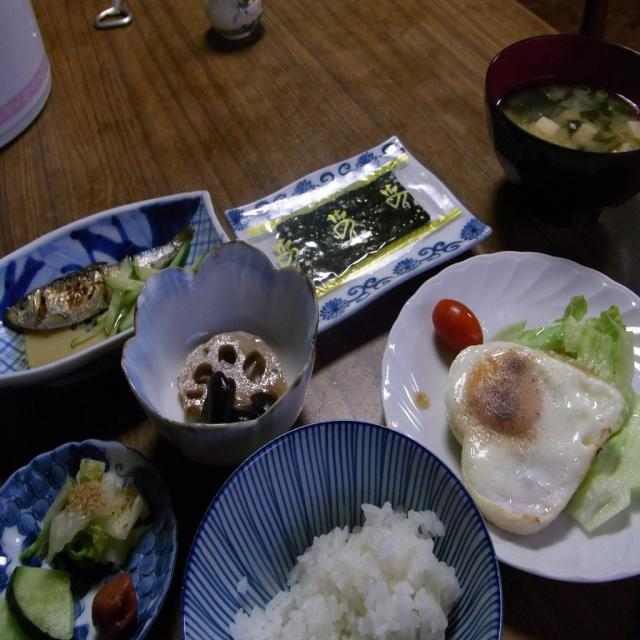Salad: (0, 436, 176, 632)
